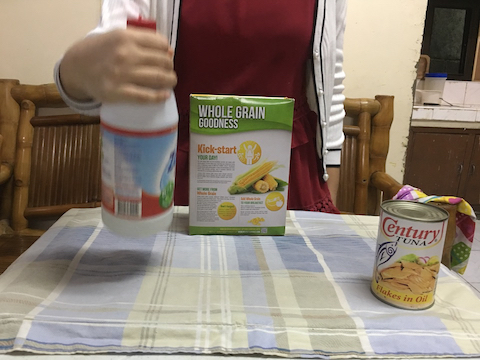bottle: (96, 16, 179, 237)
box: (187, 90, 299, 237)
can: (369, 198, 450, 312)
grab: (91, 24, 178, 103)
